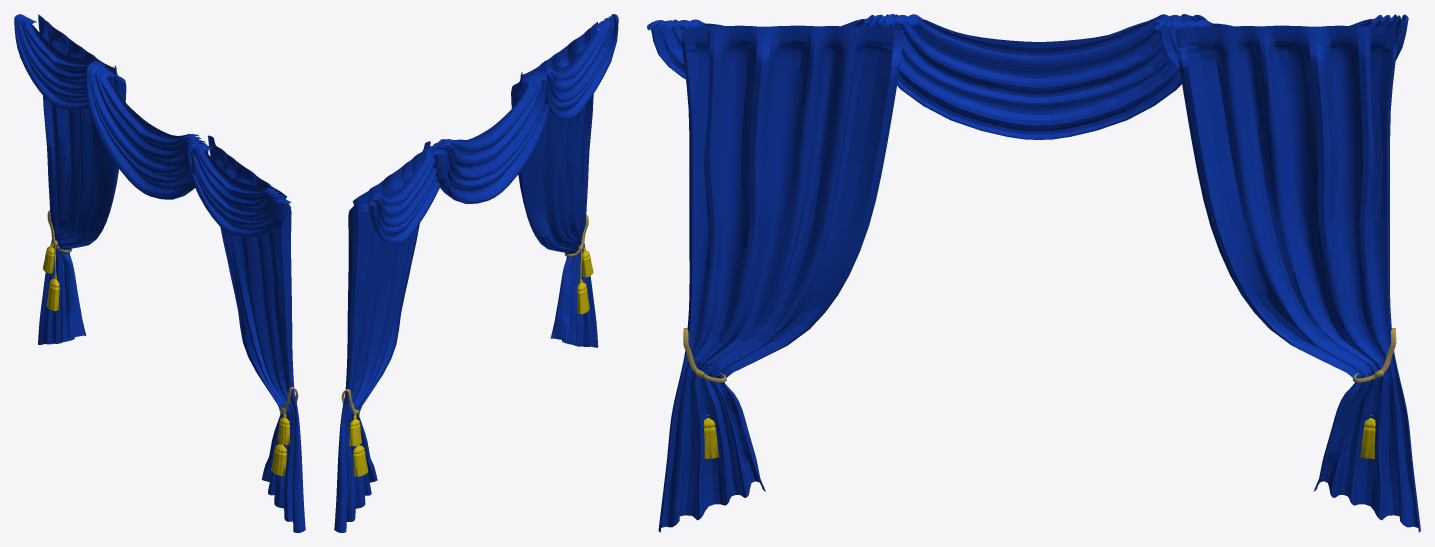
File: Curtains.fbx
3 renders of one model, left to right at view 1: azimuth 30°, elevation 25°; view 2: azimuth 150°, elevation 25°; view 3: azimuth 270°, elevation 25°, orthographic. The views are drawn at different scales.
Parts seen in each view (by area): view 1: Curtain1; view 2: Curtain1; view 3: Curtain1.
Part boxes in pixels (<box>): Curtain1: <box>14,14,305,532</box>; Curtain1: <box>334,14,618,532</box>; Curtain1: <box>647,14,1420,532</box>.
Bounding box in the file's own units: 24 × 187 × 264.
